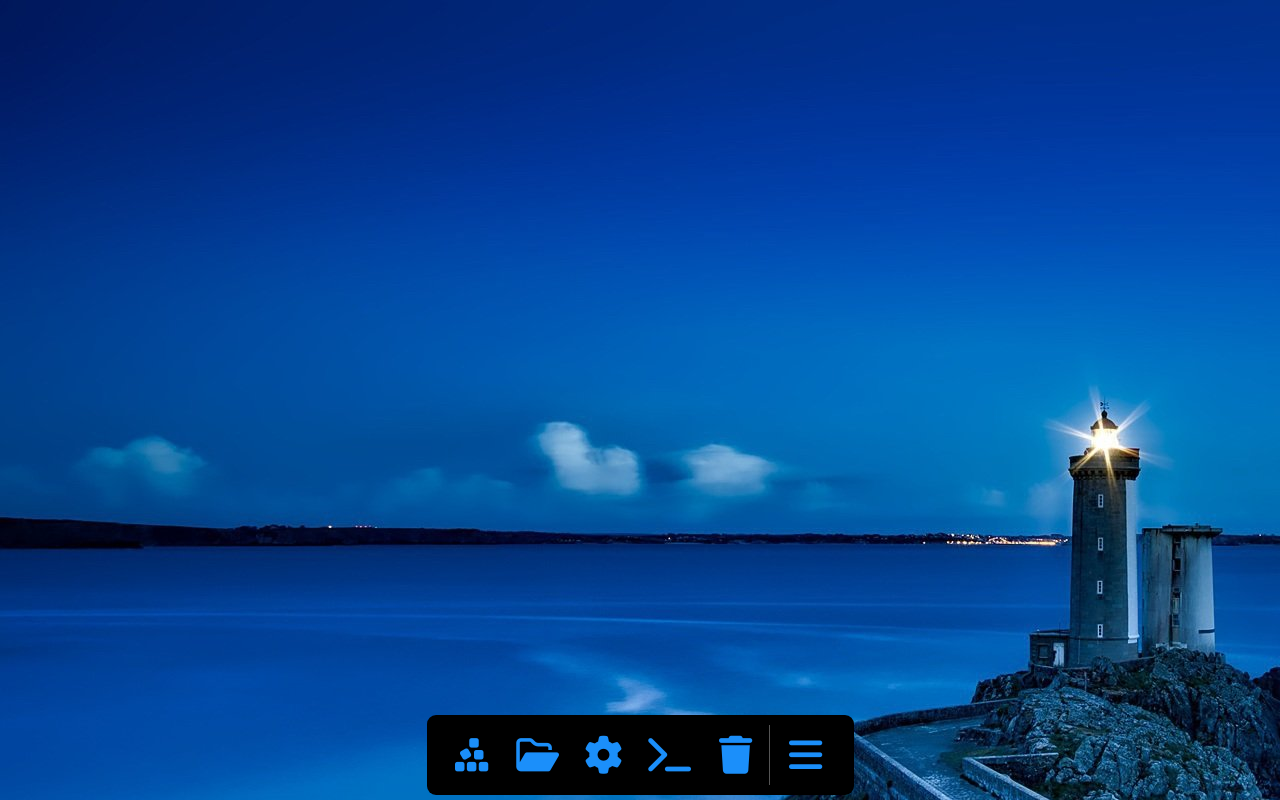
Test: App › should open apps windows if cliked on apps in Dock
# Now click on the button
Click the button named "Apps": (472, 755) [442,725,502,785]
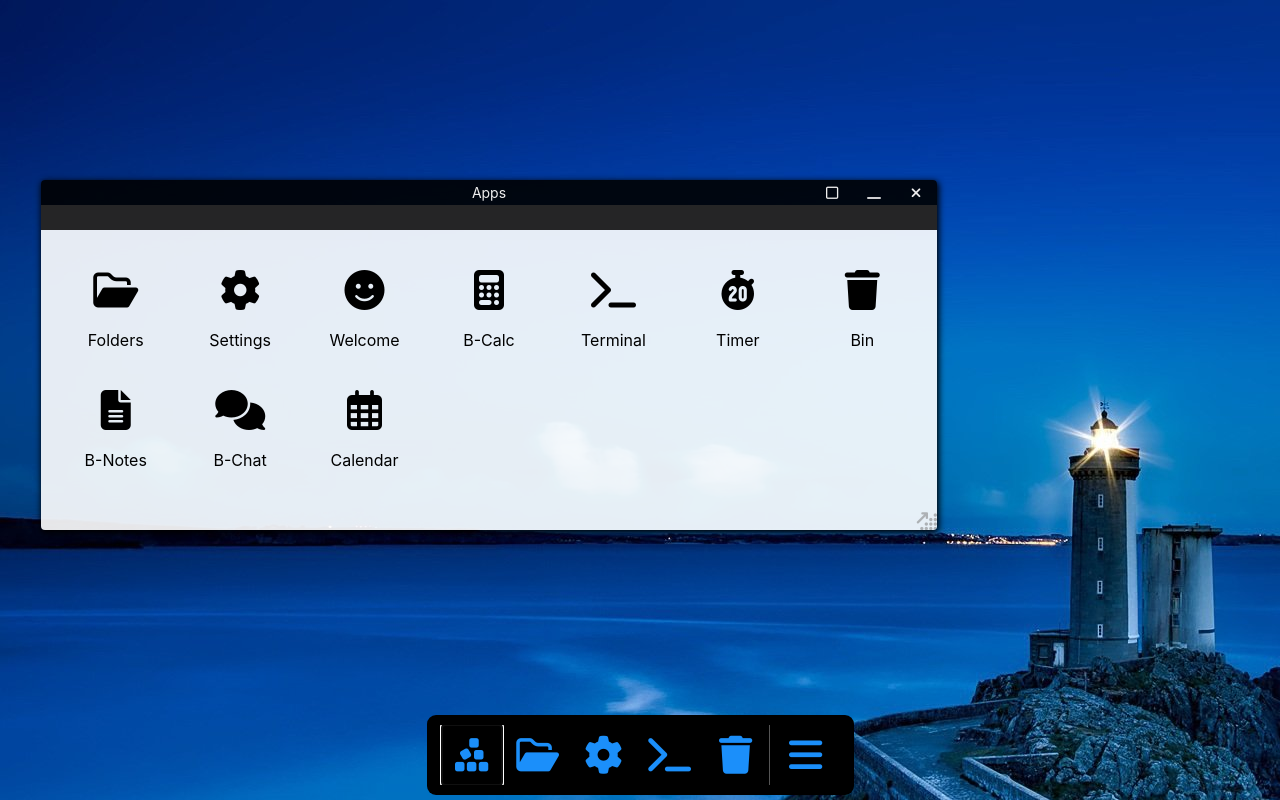
Result: the number of elements with class "WinFrame" is 1 at [41,180,937,530]
